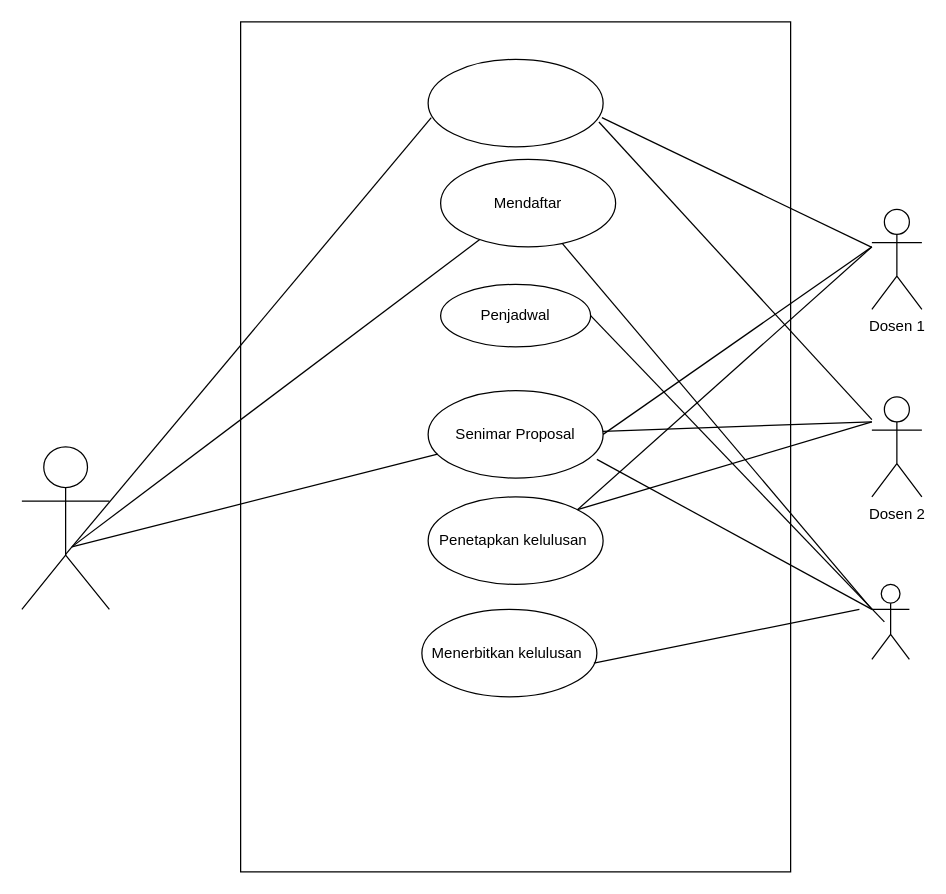
This 946x894 diagram has some shape labels left out. The shapes that lost their labels are listed below. From the top down, each one's centre as x and y in pixels, then its label:
At (x=515, y=102): "Rekomdasi".
At (x=65, y=527): "Mahasiswa".
At (x=890, y=621): "Petugas".
